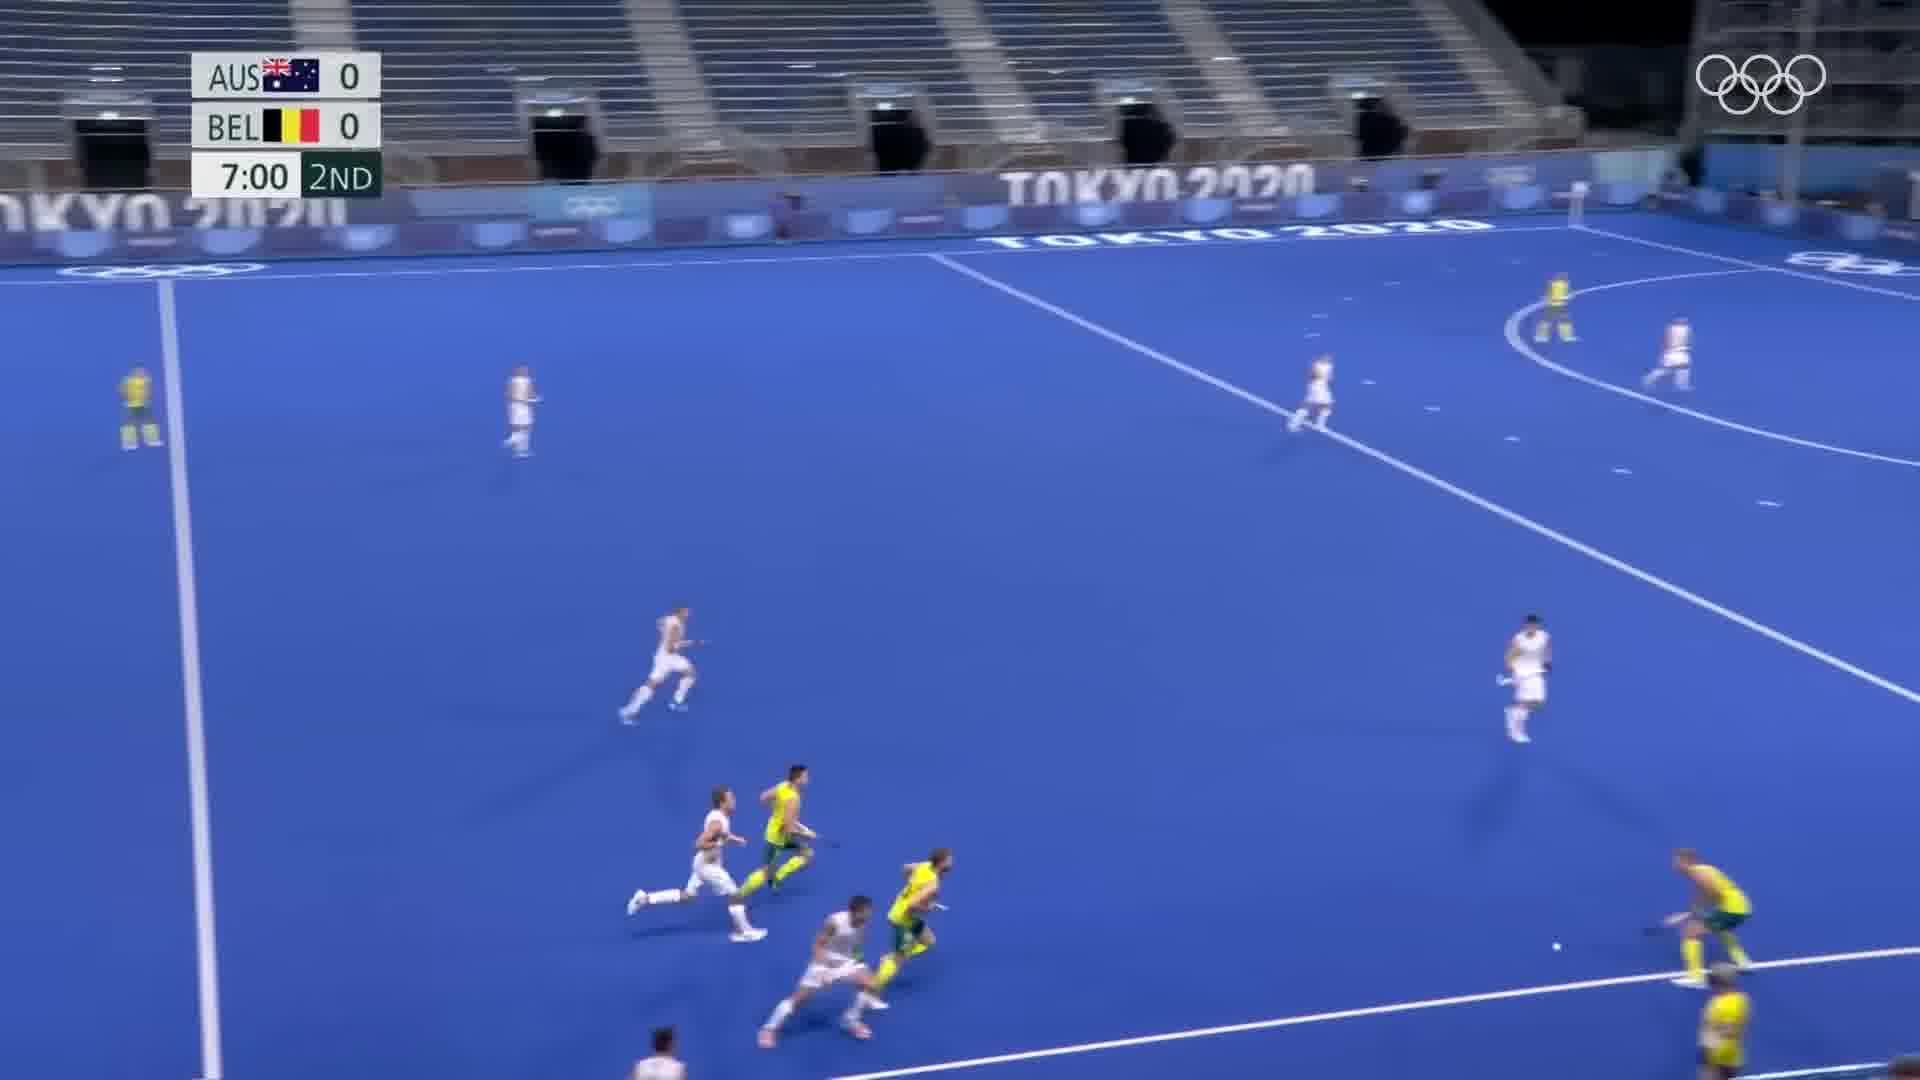ball: (1536, 935, 1572, 963)
